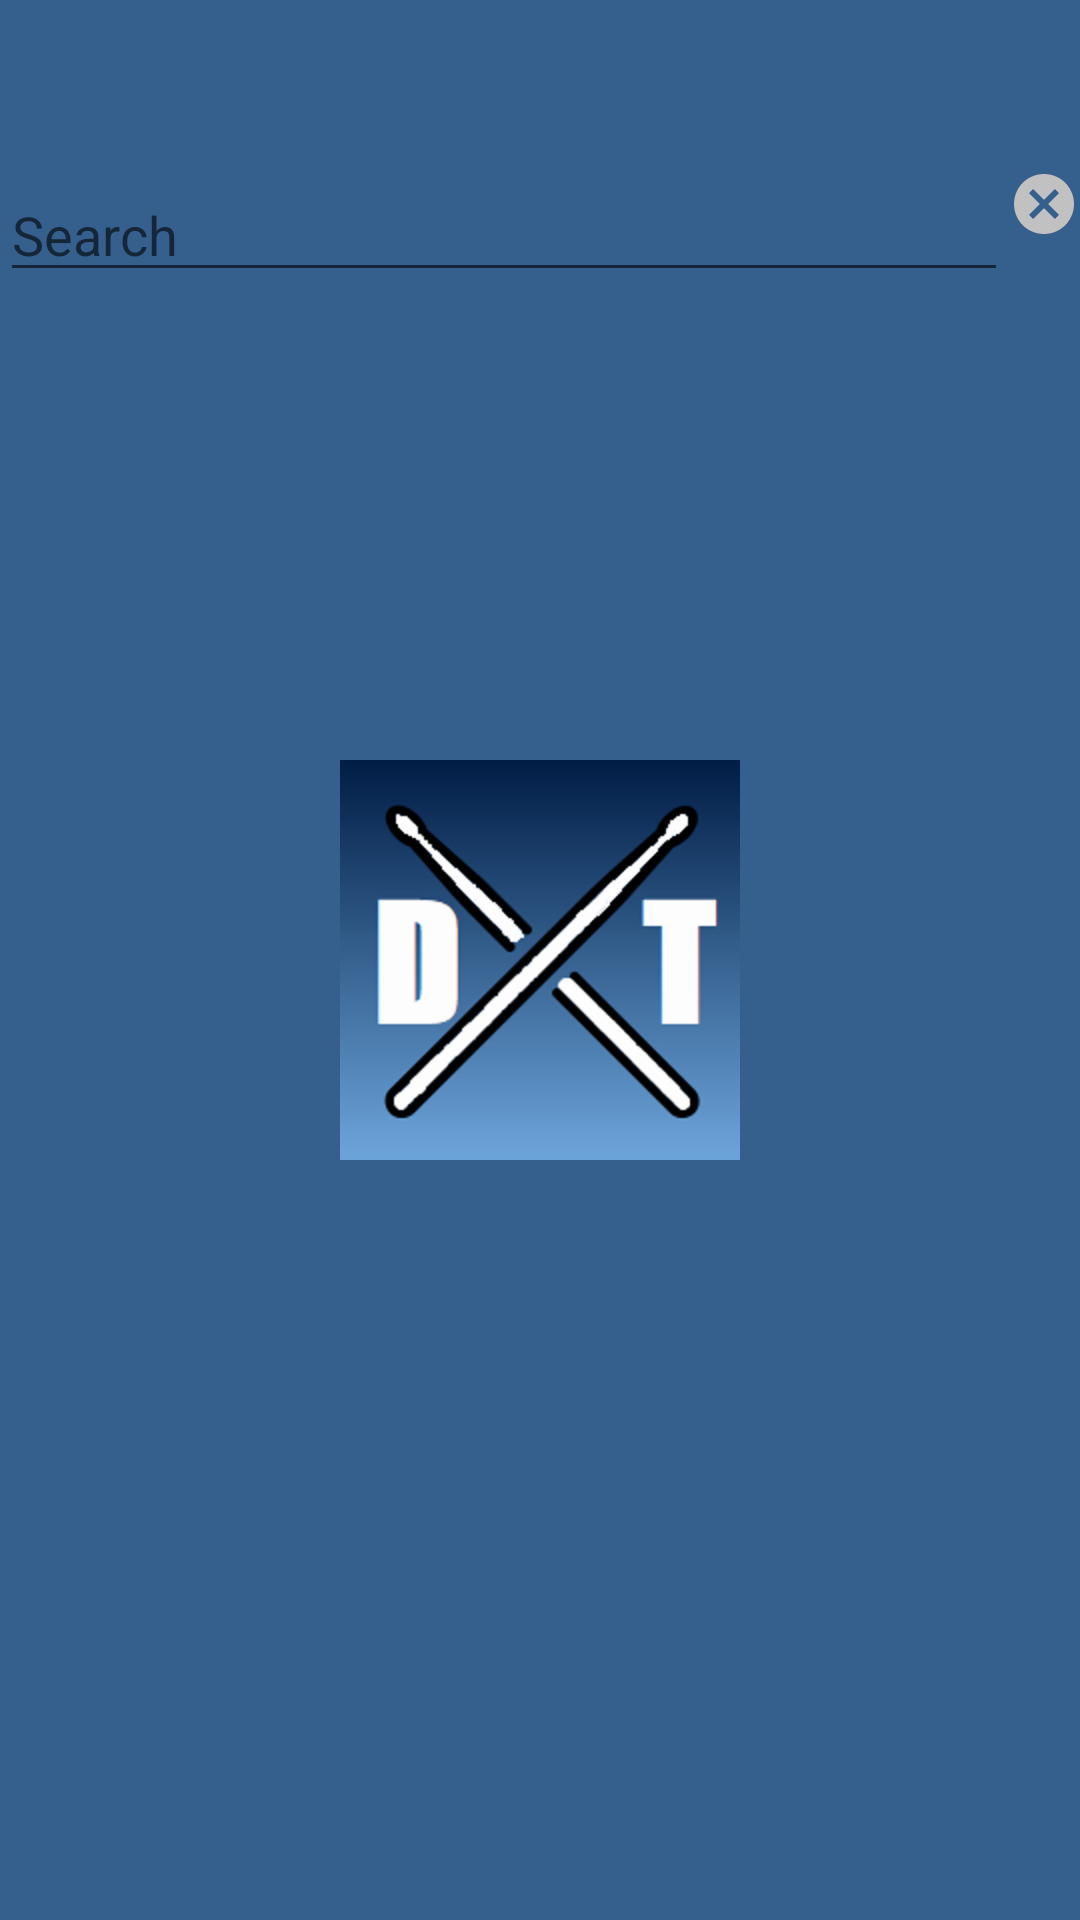

Named icons in this screenshot (1080×1920) and their centers, (x,y):
cancel: (1044,204)
